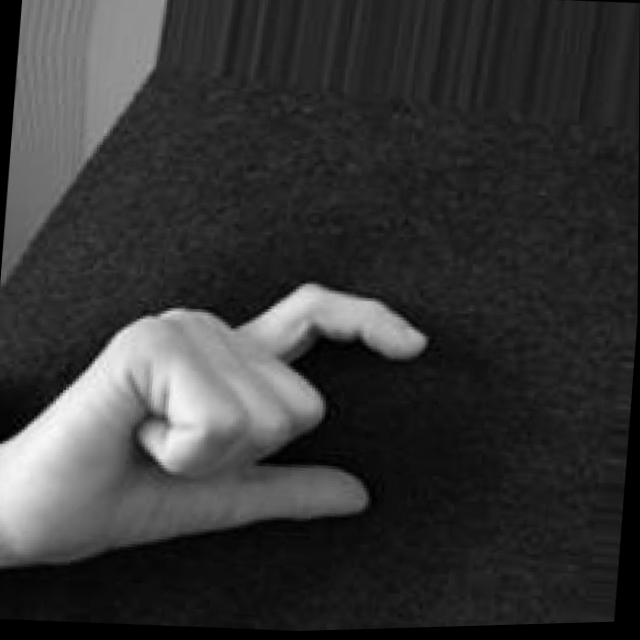C: (45, 258, 436, 592)
